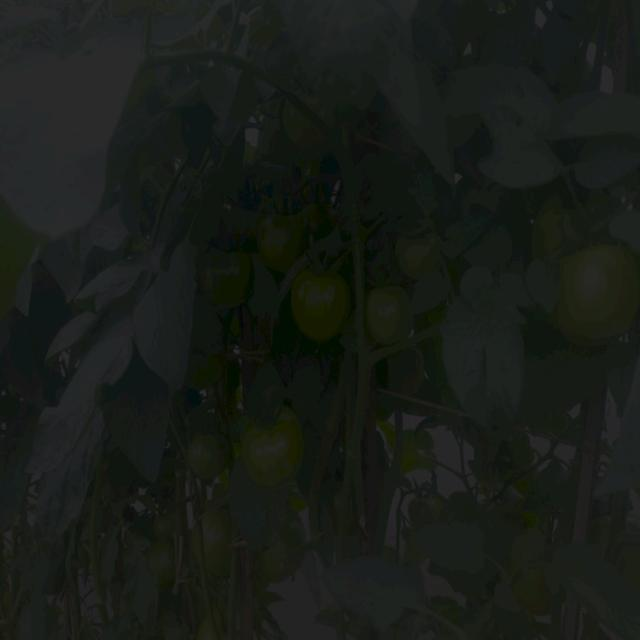tomato: (554, 243, 640, 347), (287, 266, 355, 354), (240, 413, 307, 495), (215, 242, 272, 326), (537, 190, 592, 252), (370, 280, 419, 347), (514, 532, 555, 609), (143, 538, 187, 599), (254, 216, 297, 277), (205, 509, 239, 585), (256, 542, 309, 588), (281, 107, 323, 152), (189, 432, 224, 482), (388, 231, 425, 269), (412, 489, 445, 524), (148, 515, 179, 552), (194, 613, 220, 640)
